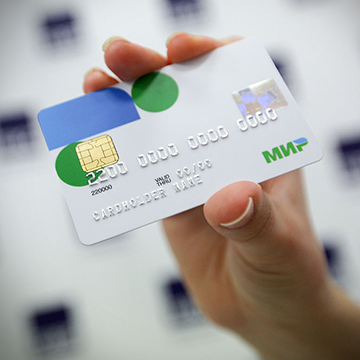card: (36, 34, 325, 245)
